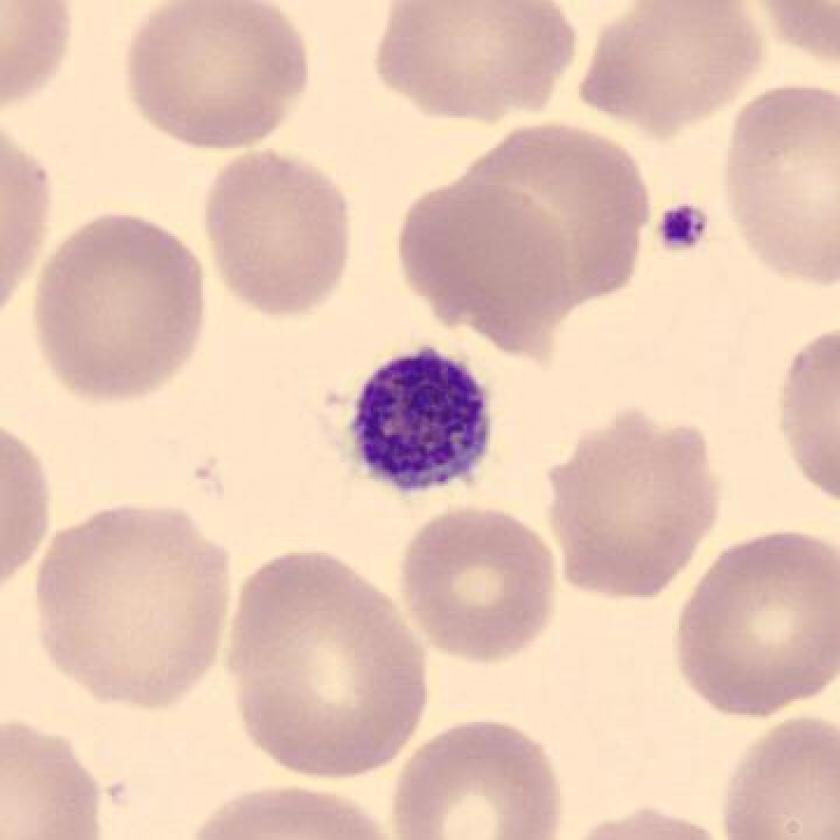platelets: (342, 339, 507, 501), (650, 191, 720, 267)
